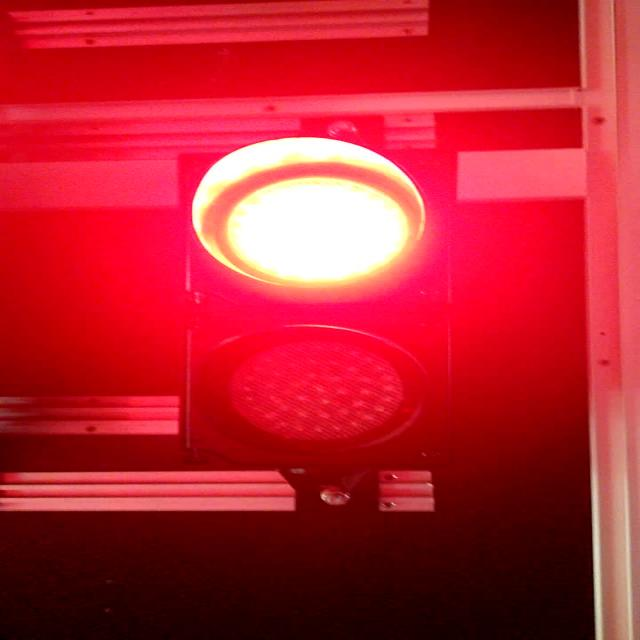red: (176, 132, 421, 308)
